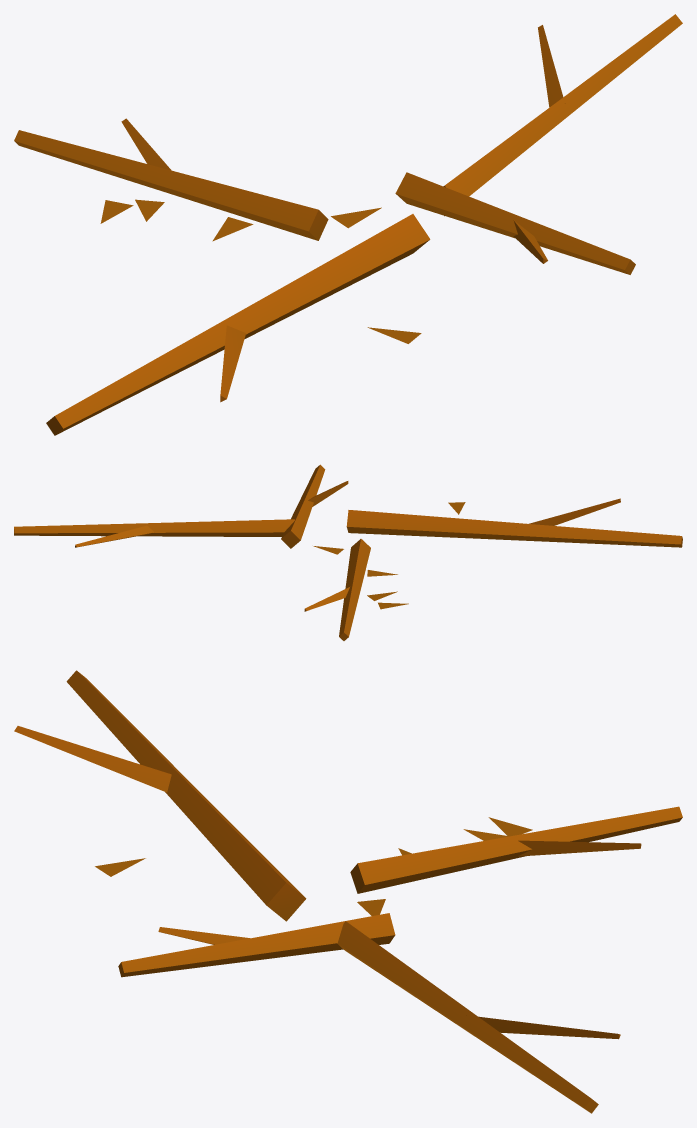
Rendered from SM_Nature_Branches_Mortes_A.fbx.
The picture shows the model from 3 angles, top to bottom: view 1: azimuth 30°, elevation 25°; view 2: azimuth 150°, elevation 25°; view 3: azimuth 270°, elevation 25°; orthographic projection. The views are drawn at different scales.
Visible parts, largest first — view 1: SM_Nature_Branches_Mortes_A_LOD0; view 2: SM_Nature_Branches_Mortes_A_LOD0; view 3: SM_Nature_Branches_Mortes_A_LOD0.
Part boxes in pixels (bbox=[...]): SM_Nature_Branches_Mortes_A_LOD0: bbox=[14, 14, 682, 435]; SM_Nature_Branches_Mortes_A_LOD0: bbox=[14, 464, 682, 640]; SM_Nature_Branches_Mortes_A_LOD0: bbox=[14, 670, 682, 1113].
Size of what is drawn, in the model's own units: 1.27 by 0.0544 by 0.8438.
